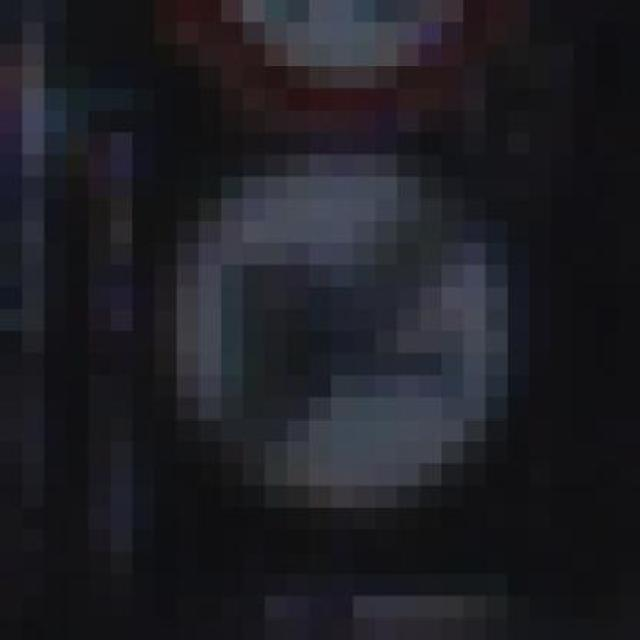Overtaking by trucks is prohibited: (66, 110, 574, 552)
